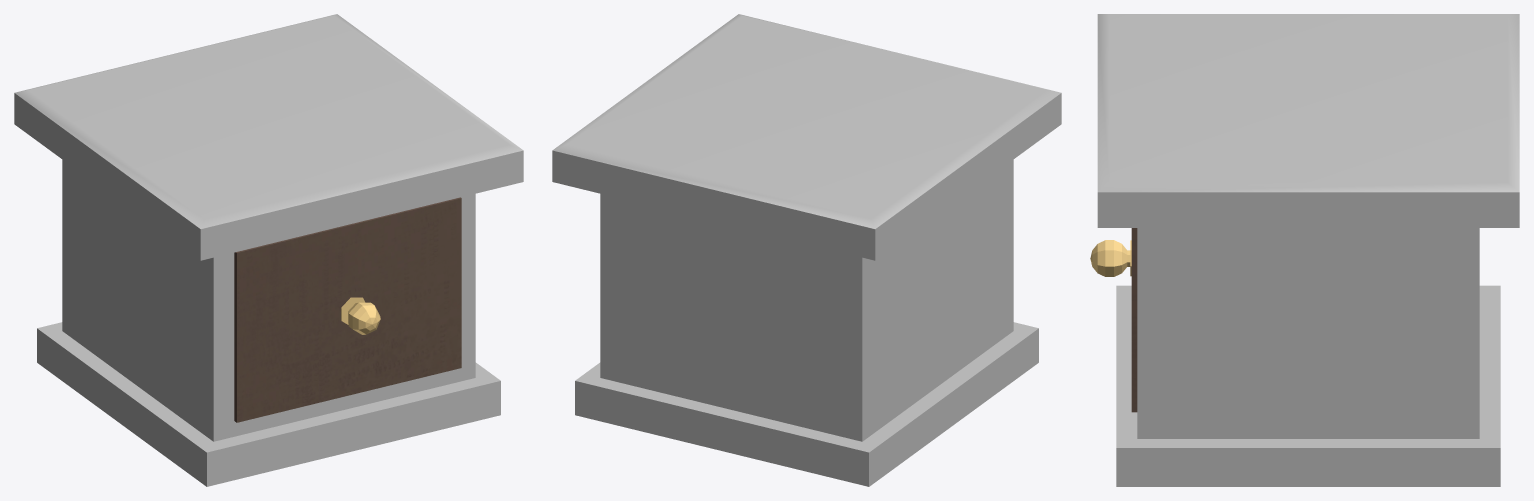
The model's file is BedSideTable.fbx.
The picture shows the model from 3 angles, left to right: view 1: azimuth 30°, elevation 25°; view 2: azimuth 150°, elevation 25°; view 3: azimuth 270°, elevation 25°; orthographic projection. The views are drawn at different scales.
Visible parts, largest first — view 1: polySurface1, pSphere1; view 2: polySurface1; view 3: polySurface1, pSphere1.
Boxes of the visible parts, x1,y1,x2,y2 form: polySurface1: (14,14,523,486); pSphere1: (234,197,461,422); polySurface1: (552,14,1061,486); polySurface1: (1097,14,1519,486); pSphere1: (1090,228,1137,412).
Size of the model in its own units: 105 by 84.09 by 106.
